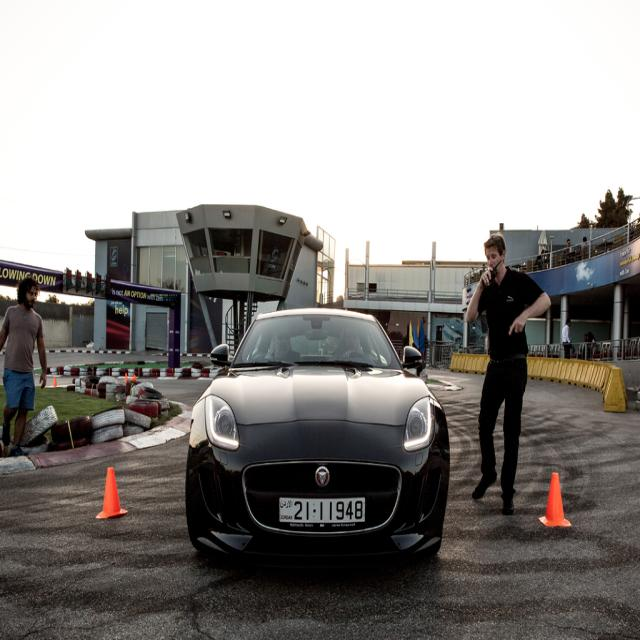car: (181, 299, 451, 567)
